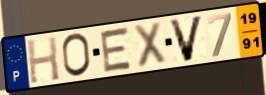7: (207, 12, 234, 59)
E: (99, 25, 134, 74)
H: (25, 35, 62, 85)
O: (61, 32, 93, 79)
V: (167, 14, 205, 64)
X: (132, 20, 168, 70)
